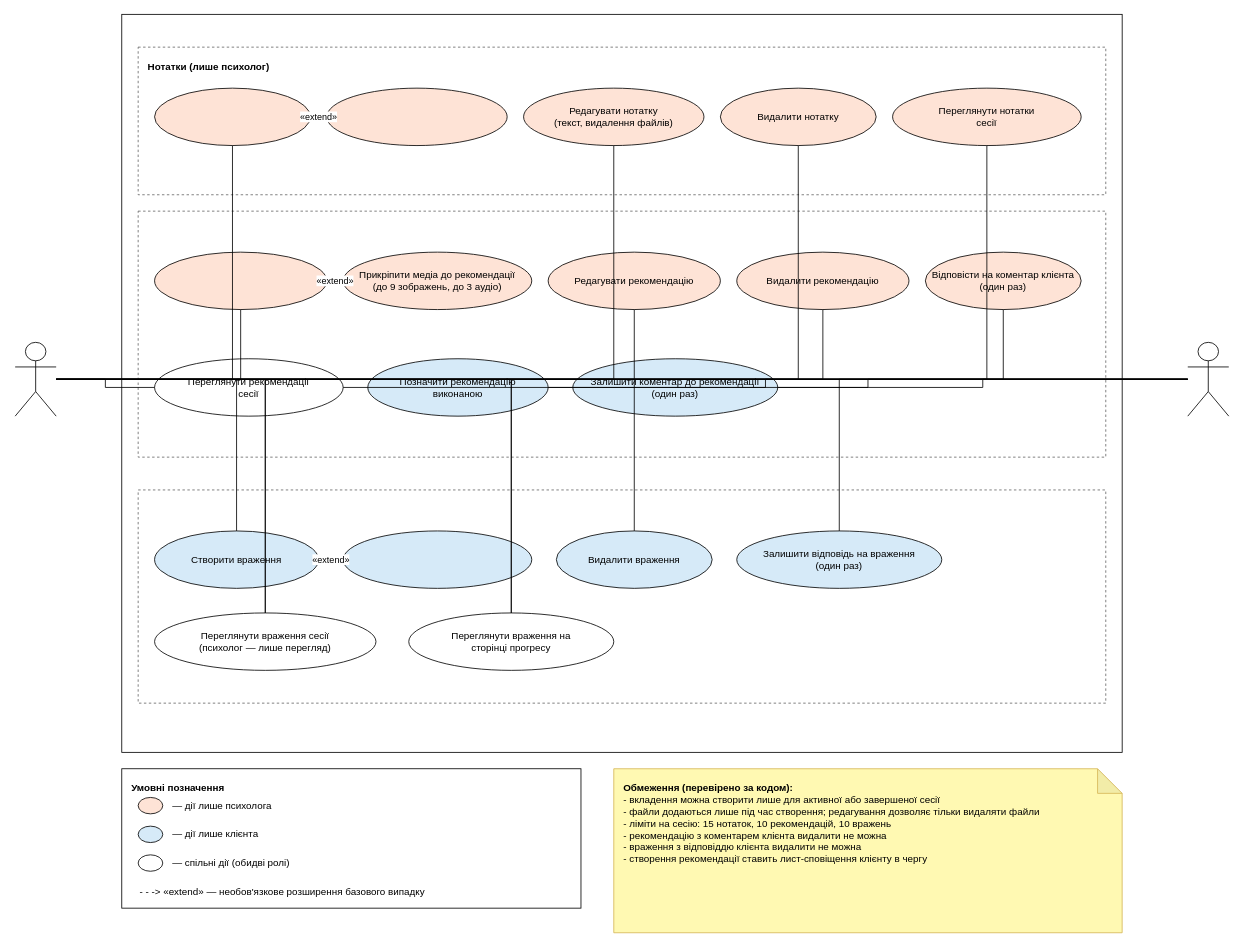
The diagram is 1243 pixels wide and 947 high, and some of its shapes have lost their labels. Here are the shapes that lost their labels. From the top down, the centre of each, then its label:
At (x=232, y=116): "Створити нотатку".
At (x=416, y=116): "Прикріпити медіа до нотатки (до 9 зображень, до 3 аудіо)".
At (x=240, y=280): "Створити рекомендацію".
At (x=35, y=379): "Психолог".
At (x=1208, y=379): "Клієнт".
At (x=437, y=559): "Прикріпити медіа до враження (до 9 зображень, до 3 аудіо)".
